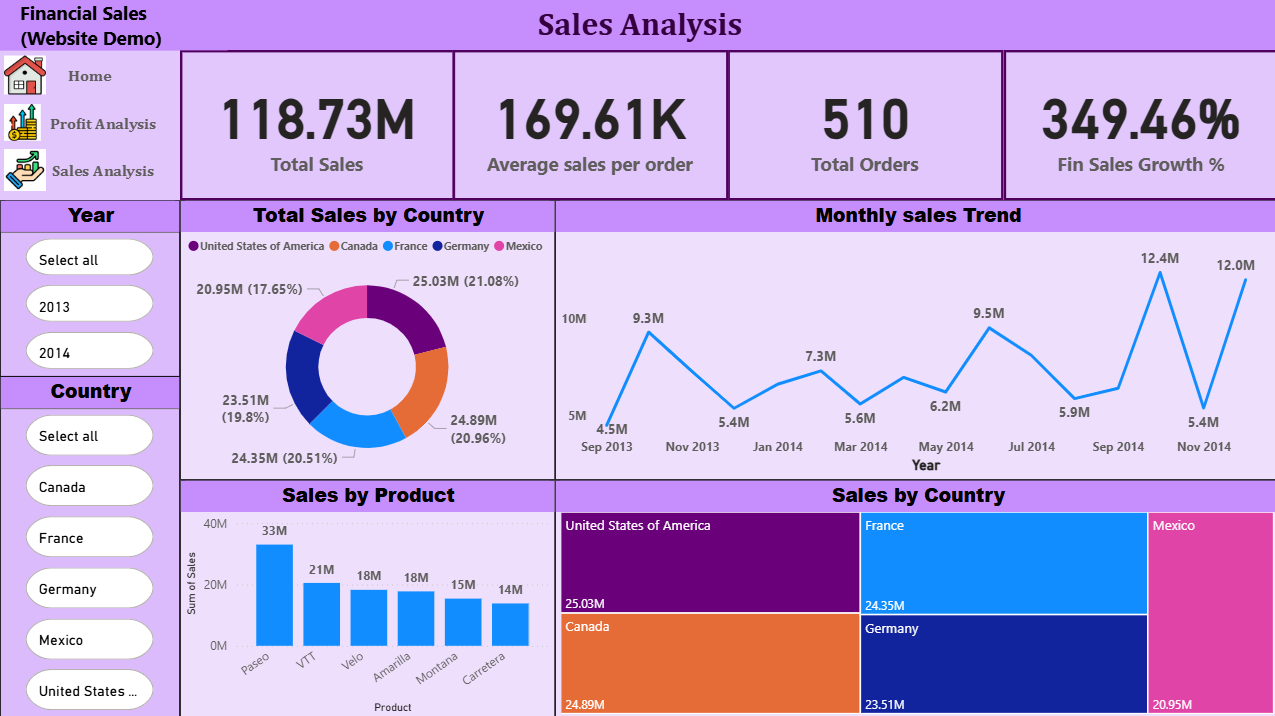

The dashboard page shown, as its layout file describes it:
{"tool":"powerbi","page":{"name":"Sales Analysis","canvas":[1280,720],"ordinal":10},"visuals":[{"type":"shape","box":[0,50,180,670],"z":0},{"type":"textbox","box":[0,0,1280,50],"z":1000},{"type":"card","fields":{"Values":["financials.Total Orders"]},"box":[728,50,276,150],"z":2000},{"type":"card","fields":{"Values":["financials.Total Sales"]},"box":[180,50,275,150],"z":3000},{"type":"card","fields":{"Values":["financials.Average sales per order"]},"box":[452,50,276,150],"z":4000},{"type":"card","fields":{"Values":["financials.Fin Sales Growth %"]},"box":[1004,50,276,150],"z":5000},{"type":"actionButton","box":[0,50,180,50],"z":6000},{"type":"actionButton","box":[0,100,180,45],"z":7000},{"type":"actionButton","box":[0,145,180,50],"z":8000},{"type":"donutChart","title":"Total Sales by Country","fields":{"Y":["Sum(financials. Sales)"],"Category":["financials.Country"]},"box":[180,200,375,280],"z":10000},{"type":"lineChart","title":"Monthly sales Trend","fields":{"Category":["financials.Date.Variation.Date Hierarchy.Year","financials.Date.Variation.Date Hierarchy.Month"],"Y":["financials.Total Sales"]},"box":[555,200,725,280],"z":11000},{"type":"clusteredColumnChart","title":"Sales by Product","fields":{"Category":["financials.Product"],"Y":["Sum(financials. Sales)"]},"box":[180,480,375,240],"z":12000},{"type":"treemap","title":"Sales by Country","fields":{"Group":["financials.Country"],"Values":["Sum(financials. Sales)"]},"box":[555,480,725,240],"z":13000},{"type":"advancedSlicerVisual","fields":{"Values":["financials.Date.Variation.Date Hierarchy.Year"]},"box":[0,200,180,176.7],"z":14000},{"type":"advancedSlicerVisual","fields":{"Values":["financials.Country"]},"box":[0,376.7,180,343.3],"z":15000},{"type":"shape","box":[0,0,227,50],"z":16501}]}

Visuals, with their boxes in screenshot pixels (x1, y1, x2, y2), scaled from the page's 1280x720 canvas onto the 1275x716 screenshot:
shape: <box>0,50,179,715</box>
textbox: <box>0,0,1274,50</box>
card - financials.Total Orders: <box>725,50,1000,199</box>
card - financials.Total Sales: <box>179,50,453,199</box>
card - financials.Average sales per order: <box>450,50,725,199</box>
card - financials.Fin Sales Growth %: <box>1000,50,1274,199</box>
actionButton: <box>0,50,179,99</box>
actionButton: <box>0,99,179,144</box>
actionButton: <box>0,144,179,194</box>
"Total Sales by Country" donutChart: <box>179,199,553,477</box>
"Monthly sales Trend" lineChart: <box>553,199,1274,477</box>
"Sales by Product" clusteredColumnChart: <box>179,477,553,715</box>
"Sales by Country" treemap: <box>553,477,1274,715</box>
advancedSlicerVisual - financials.Date.Variation.Date Hierarchy.Year: <box>0,199,179,375</box>
advancedSlicerVisual - financials.Country: <box>0,375,179,715</box>
shape: <box>0,0,226,50</box>
